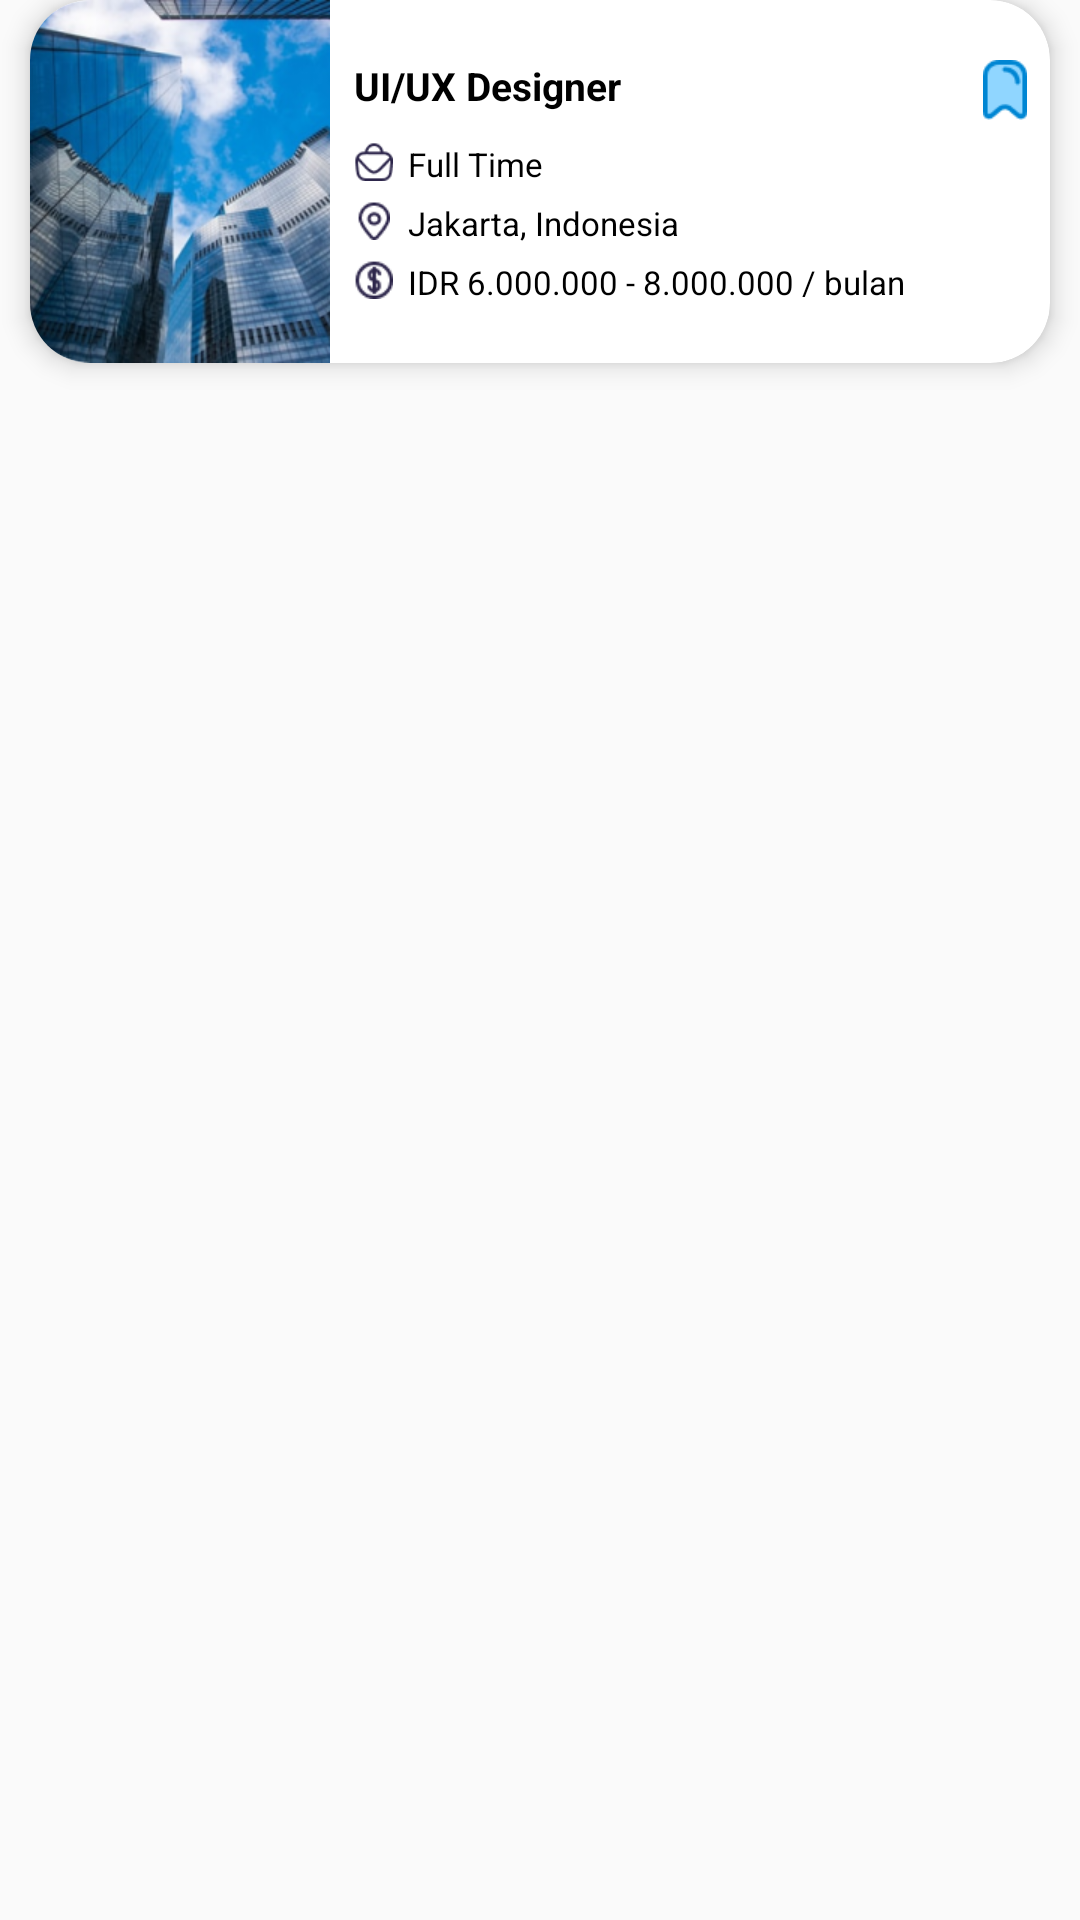

Where icons sit on this 1080px x 1920px app screen, as (x1, y1, x2, y2):
dolar: (355, 261, 393, 299)
location: (358, 202, 390, 240)
save: (983, 60, 1027, 120)
work: (355, 143, 393, 181)
